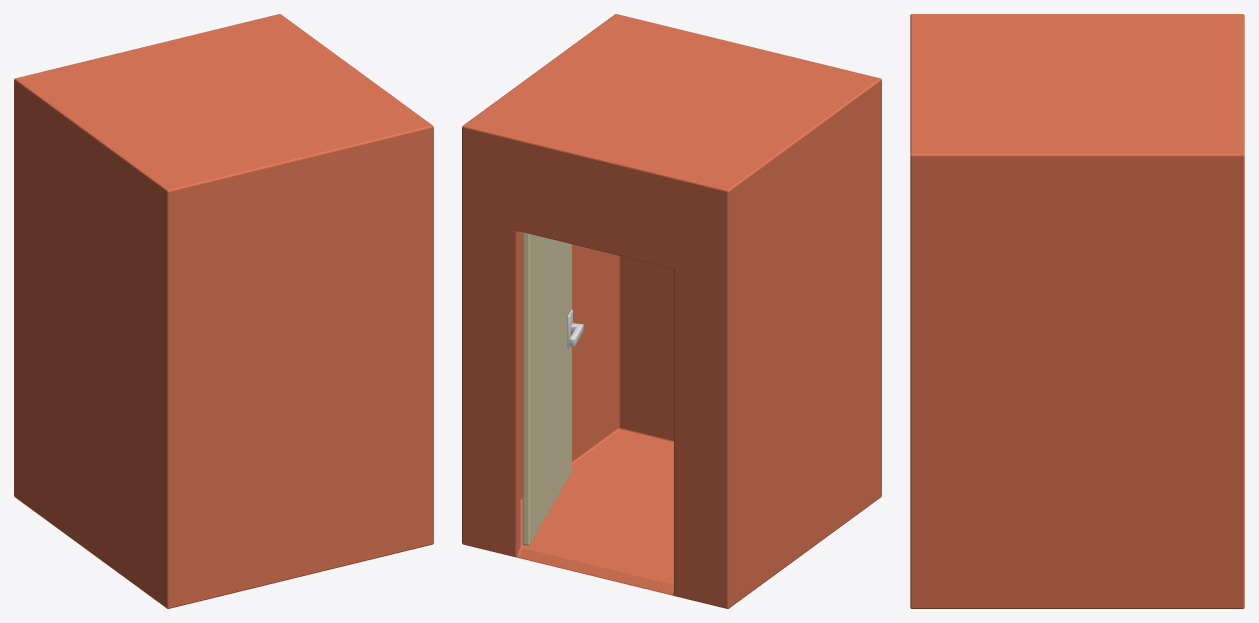
Rendered from CasaDoPedrinho.fbx.
3 views of the same model, side by side, from view 1: azimuth 30°, elevation 25°; view 2: azimuth 150°, elevation 25°; view 3: azimuth 270°, elevation 25° (orthographic). The views are drawn at different scales.
Parts seen in each view (by area): view 1: Box; view 2: Box, Door; view 3: Box.
Part boxes in pixels (x1,y1,x2,y2): Box: (14,14,433,608); Box: (462,14,881,608); Door: (522,232,571,545); Box: (910,14,1244,608).
Size of the model in its own units: 4 by 4 by 6.
